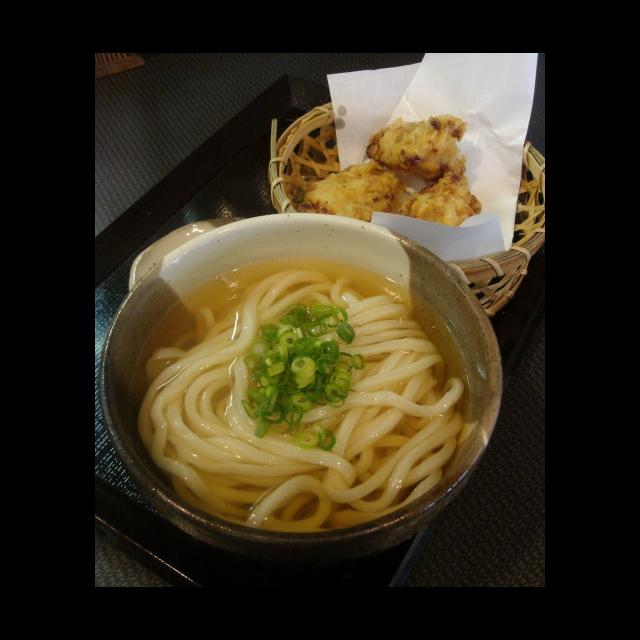noodles: (120, 264, 471, 532)
